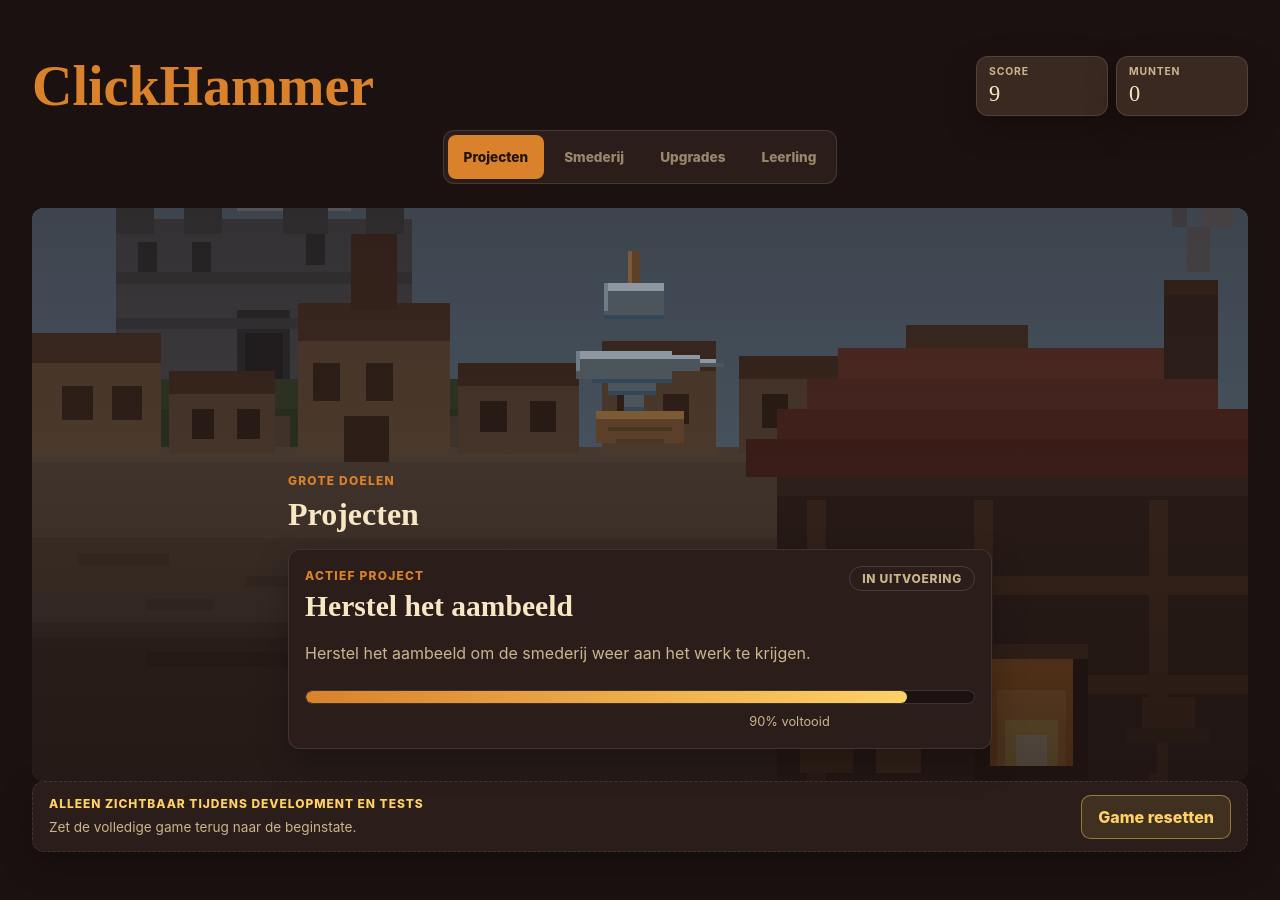
Test: App › enables the smithy and upgrades views once the first project is done
This screenshot has width=1280, height=900.
Click the button named "Sla op het aambeeld" at (640, 347), box [532,239,748,455]
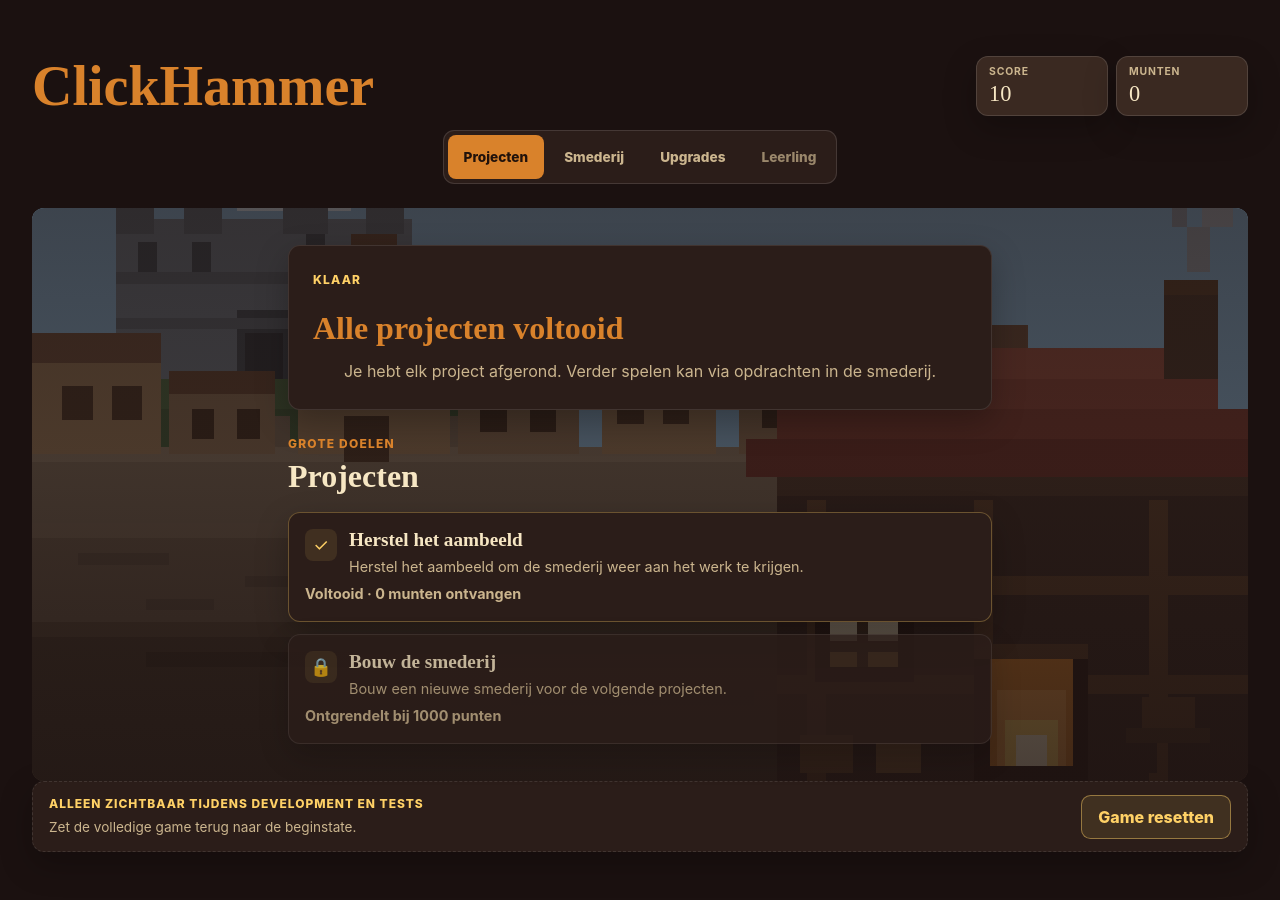
Expected: the tab with class "game-navigation__tab" showing "Smederij" is enabled, [548,135,640,179]
Expected: the tab with class "game-navigation__tab" showing "Upgrades" is enabled, [644,135,742,179]
